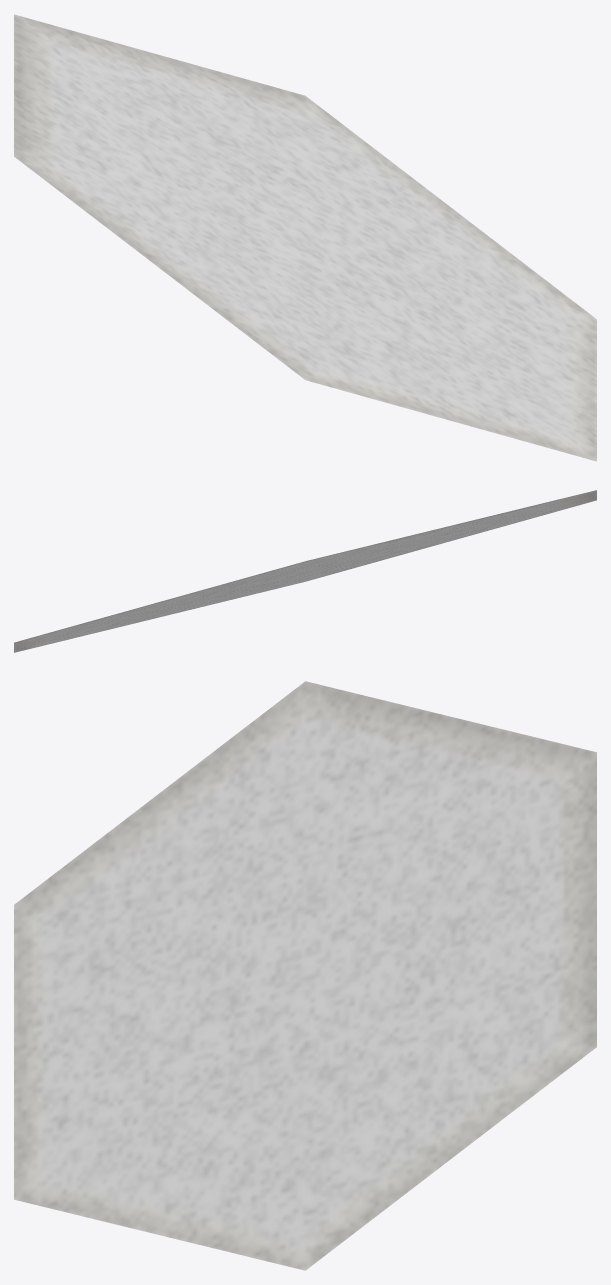
File: HexaTile_PCC.FBX
The picture shows the model from 3 angles, top to bottom: view 1: azimuth 30°, elevation 25°; view 2: azimuth 150°, elevation 25°; view 3: azimuth 270°, elevation 25°; orthographic projection.
Parts seen in each view (by area): view 1: HexaTile_PCC; view 2: HexaTile_PCC; view 3: HexaTile_PCC.
Boxes of the visible parts, <box> form: HexaTile_PCC: <box>14,14,596,461</box>; HexaTile_PCC: <box>14,490,596,652</box>; HexaTile_PCC: <box>14,681,596,1270</box>.
Size of the model in its own units: 1 by 0.5 by 0.866.
